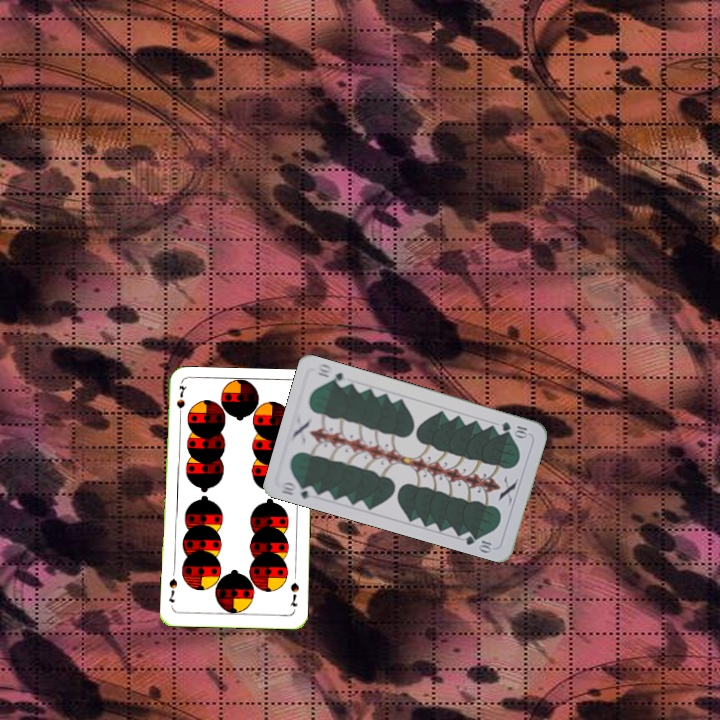G10: (277, 478, 319, 501), (497, 418, 532, 440)
S7: (173, 382, 188, 422), (286, 578, 301, 609)
